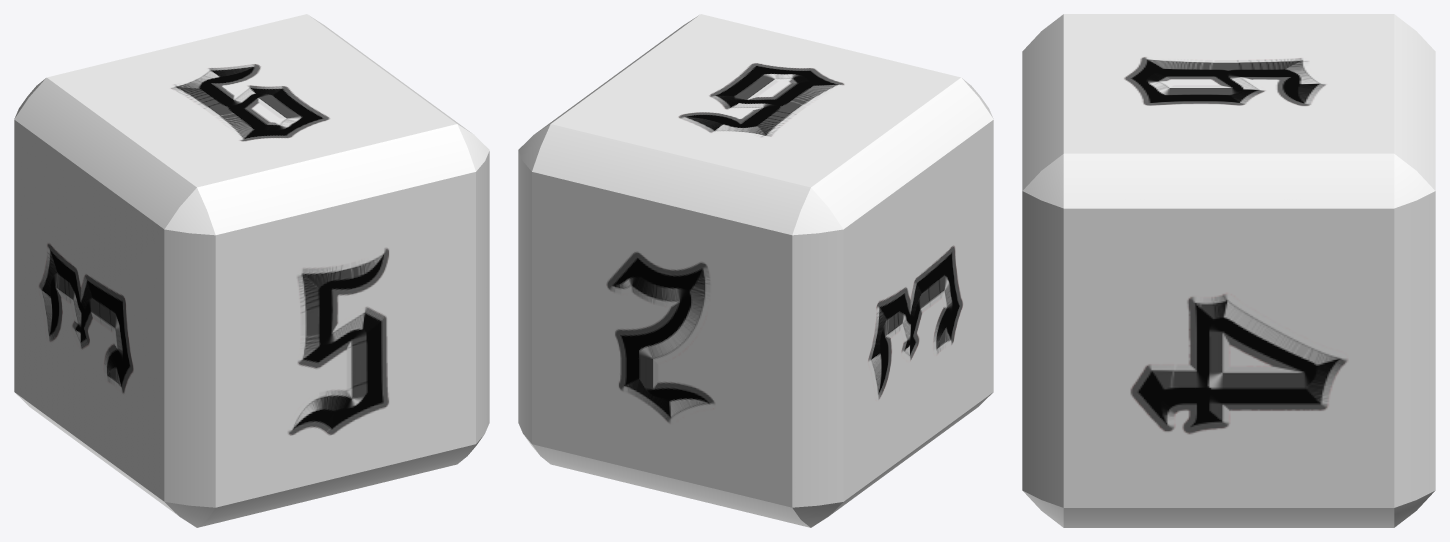
3 renders of one model, left to right at view 1: azimuth 30°, elevation 25°; view 2: azimuth 150°, elevation 25°; view 3: azimuth 270°, elevation 25°, orthographic. The views are drawn at different scales.
Parts seen in each view (by area): view 1: TEMPORARY_IMPORT_NAMESPACE__T_C_R____6_ﾊ:pCube1; view 2: TEMPORARY_IMPORT_NAMESPACE__T_C_R____6_ﾊ:pCube1; view 3: TEMPORARY_IMPORT_NAMESPACE__T_C_R____6_ﾊ:pCube1.
Part boxes in pixels (x1,y1,x2,y2): TEMPORARY_IMPORT_NAMESPACE__T_C_R____6_ﾊ:pCube1: (14,14,489,527); TEMPORARY_IMPORT_NAMESPACE__T_C_R____6_ﾊ:pCube1: (518,14,993,527); TEMPORARY_IMPORT_NAMESPACE__T_C_R____6_ﾊ:pCube1: (1022,14,1435,527).
Size of the model in its own units: 20 by 20 by 20.
1 material, 1 textured.
